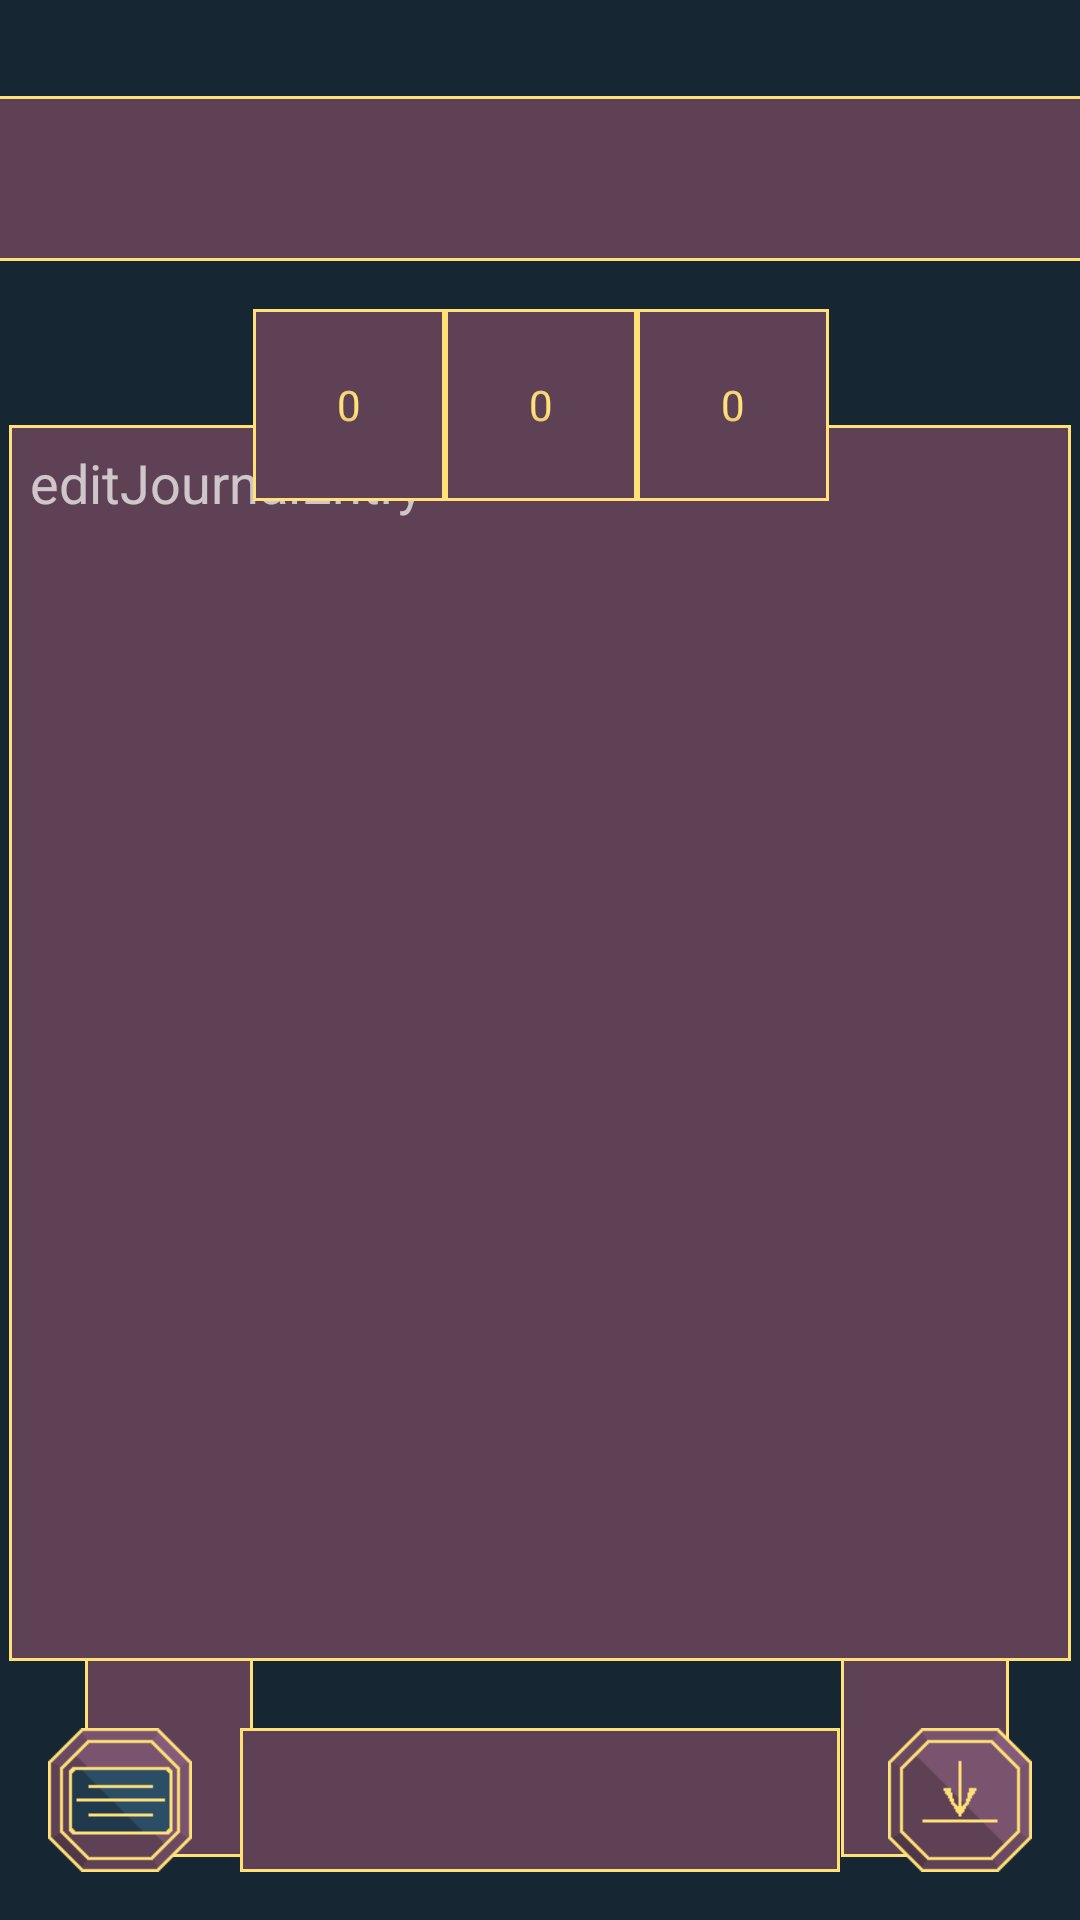

Icon click points for this 1080px x 1920px phone screenshot, format [x,y]:
save: [960,1800]
